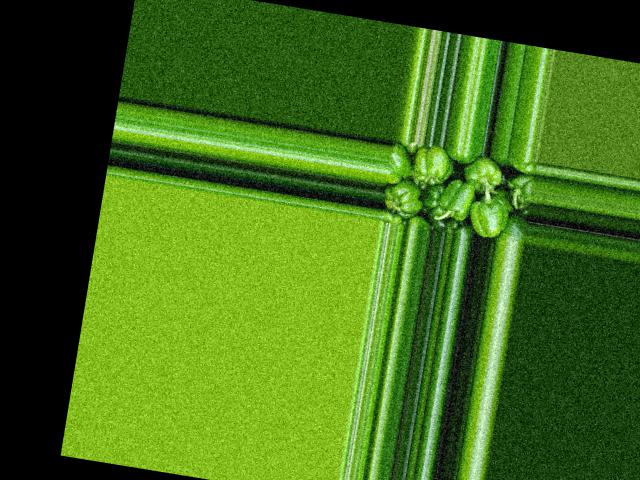bell_pepper: (492, 212, 529, 245)
